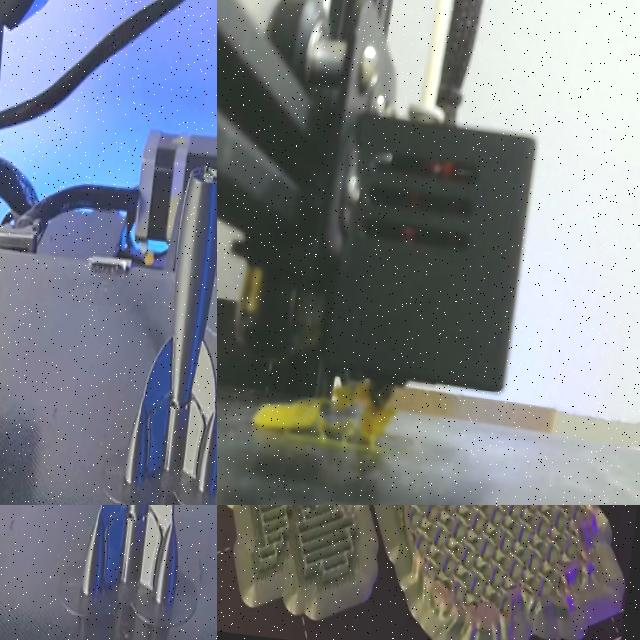spaghetti: (251, 380, 395, 447)
